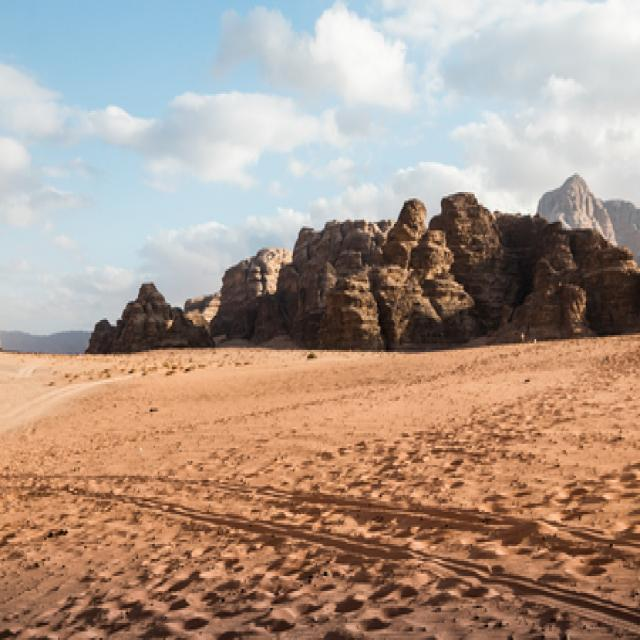red-sand: (0, 335, 639, 636)
rocks: (88, 192, 639, 352)
